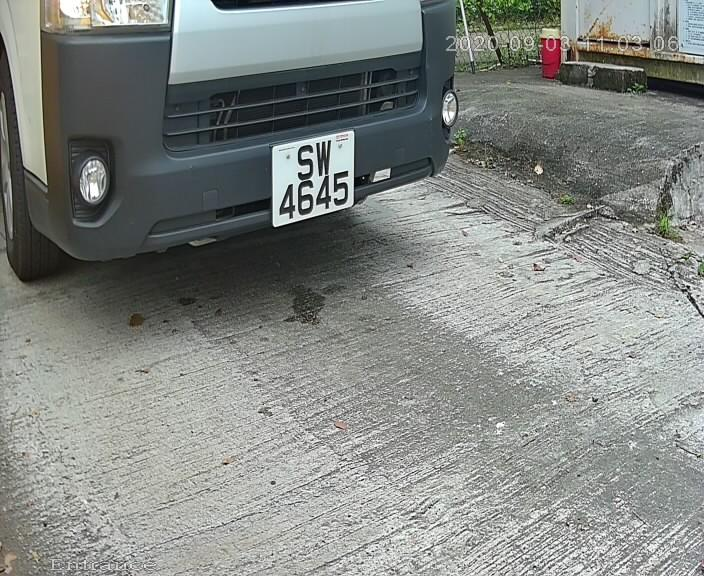License Plate: (258, 132, 368, 229)
